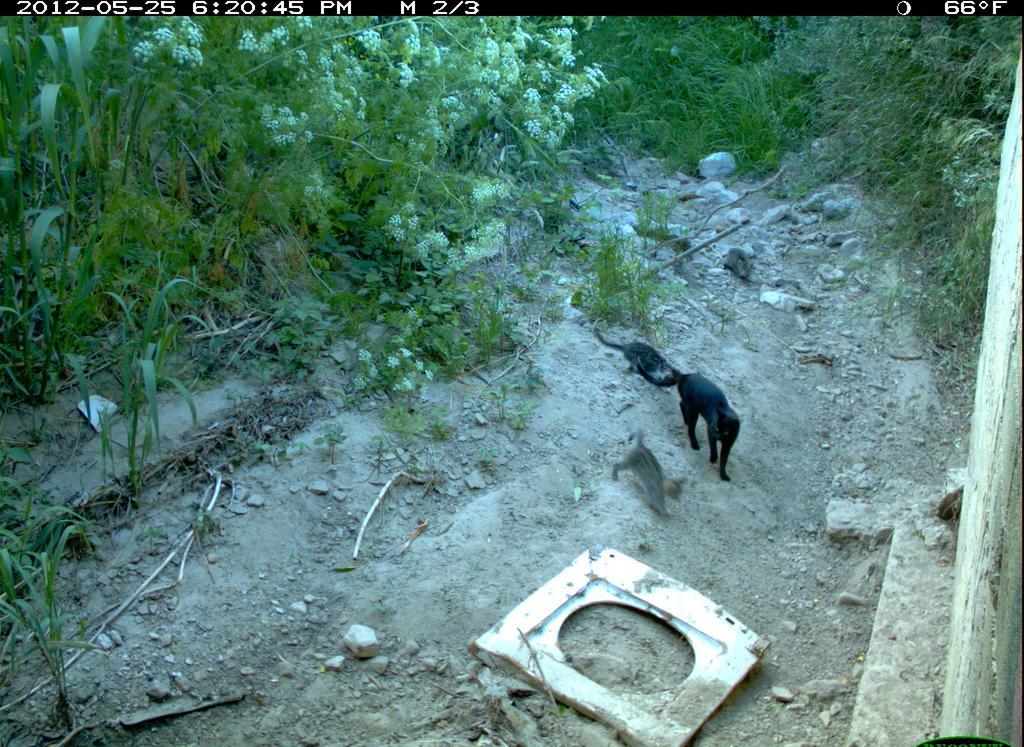cat: (671, 364, 754, 487), (607, 420, 693, 529), (588, 317, 687, 396)
